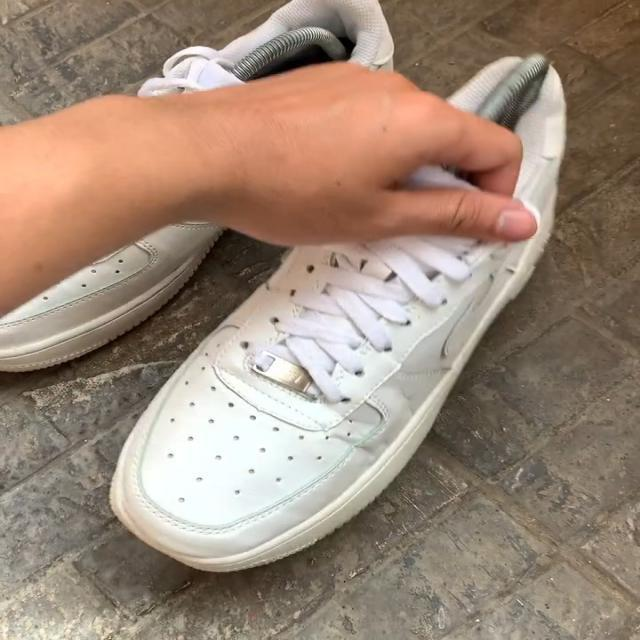nike fake air force: (88, 54, 576, 579)
